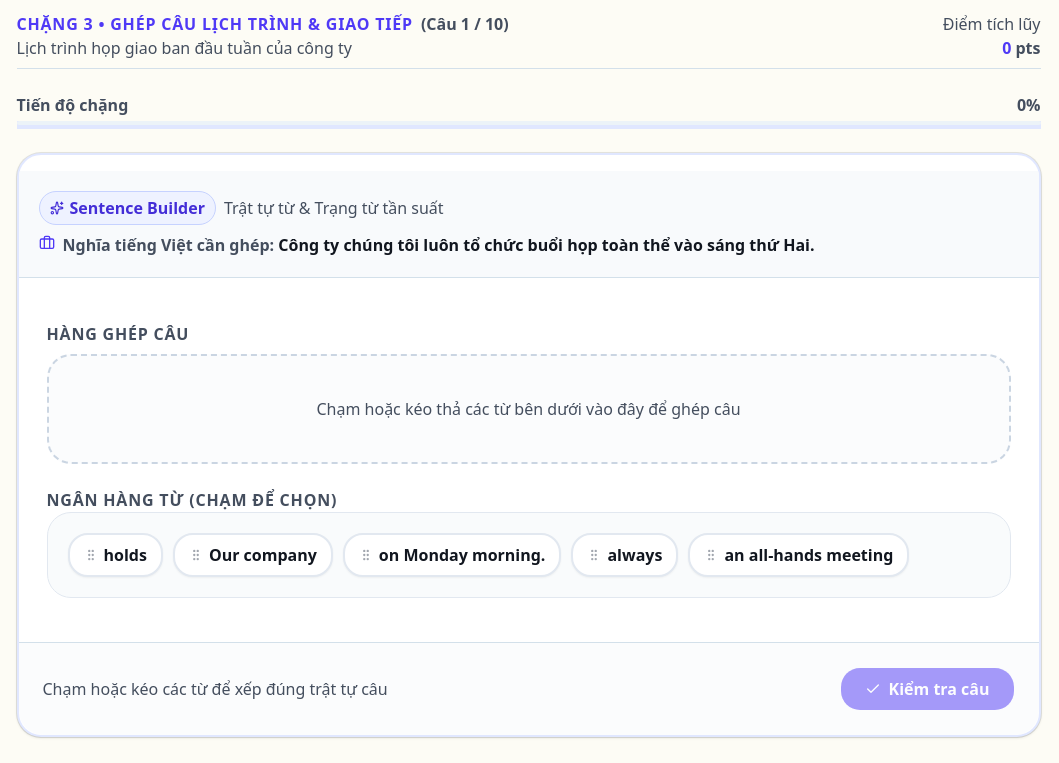
Test: SentenceBuilderStage (Stage 3) › returns a placed token back to the bank when clicked in the placed area
This screenshot has width=1059, height=763.
Note: Place "Our company" and "always"
Click the button named "thêm \"our company\"" at coordinates (253, 555), box [173,533,333,577]
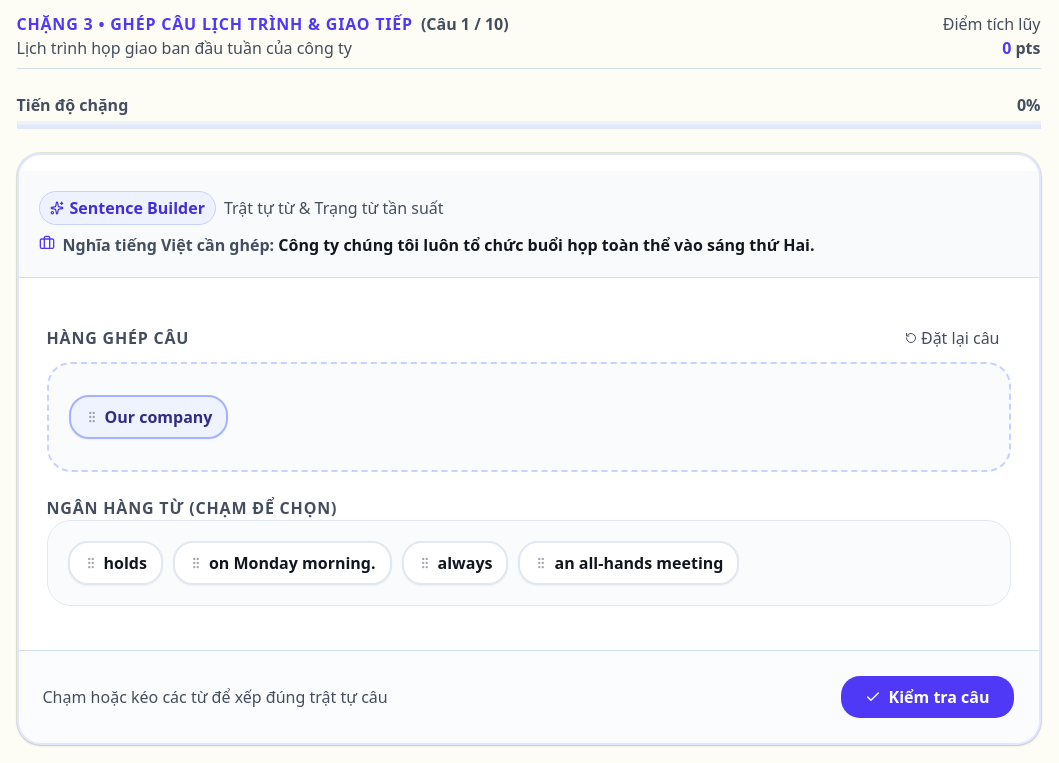
Click the button named "thêm \"always\"" at coordinates (455, 563), box [402,541,508,585]
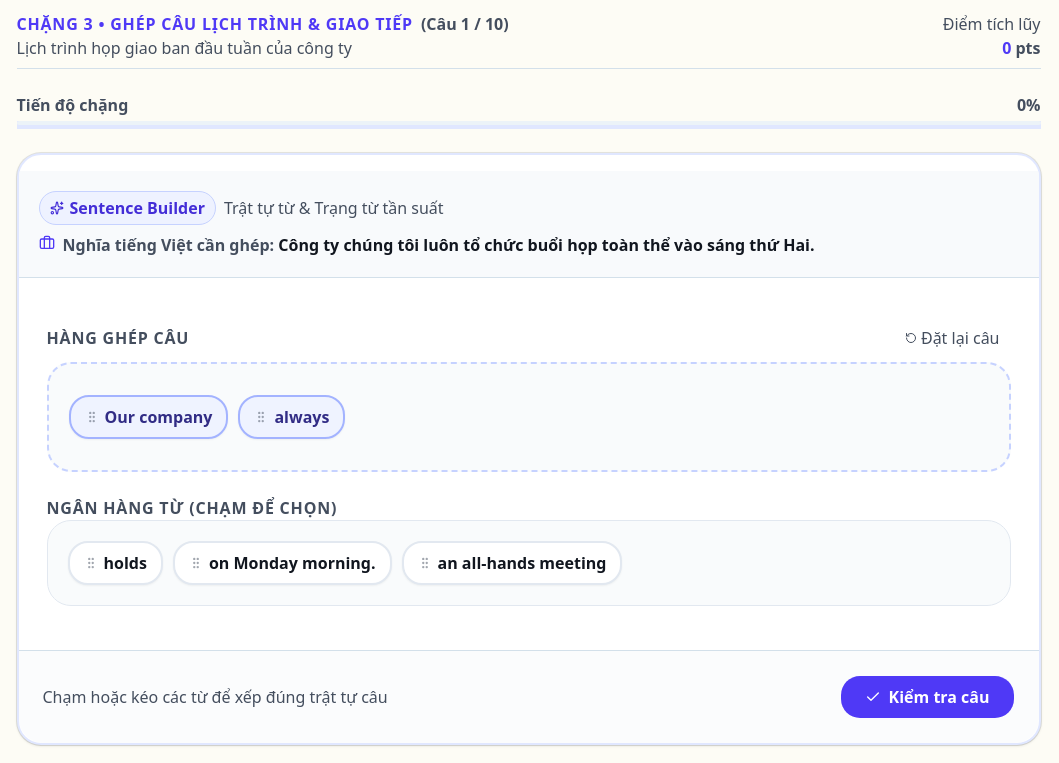
Note: Click "Our company" in placed area
Click the button named "xóa \"our company\"" at coordinates (148, 417), box [68,395,228,439]
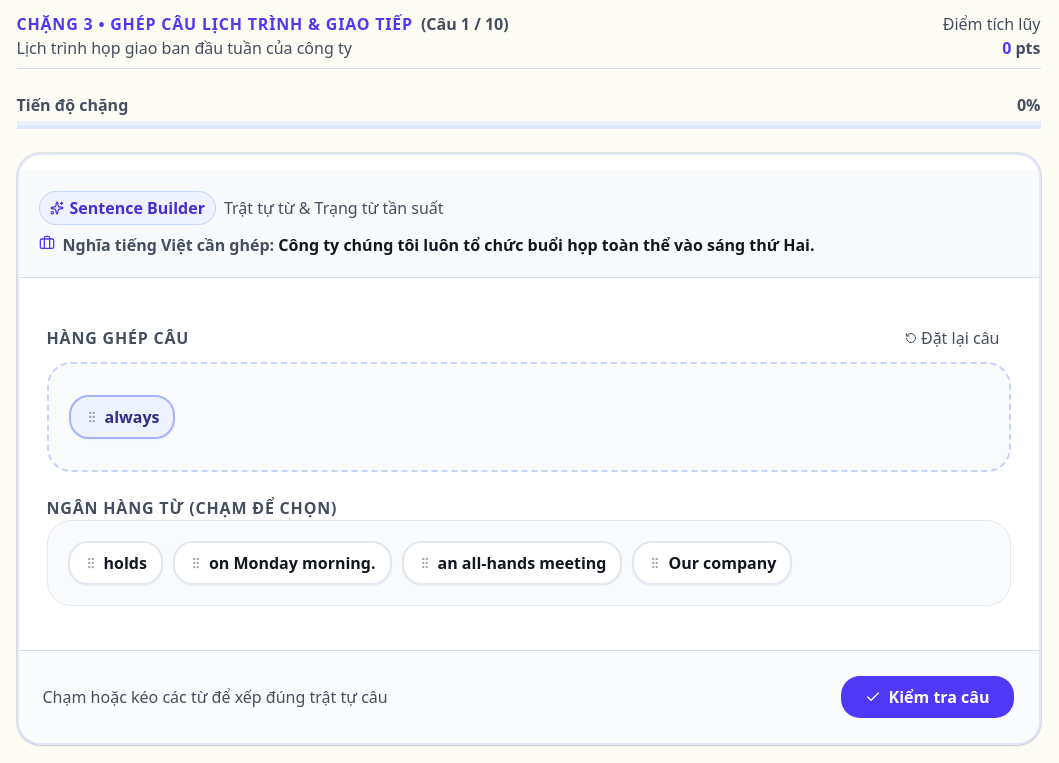
Check: the button named "thêm \"our company\"" is shown, box [632,541,792,585]
